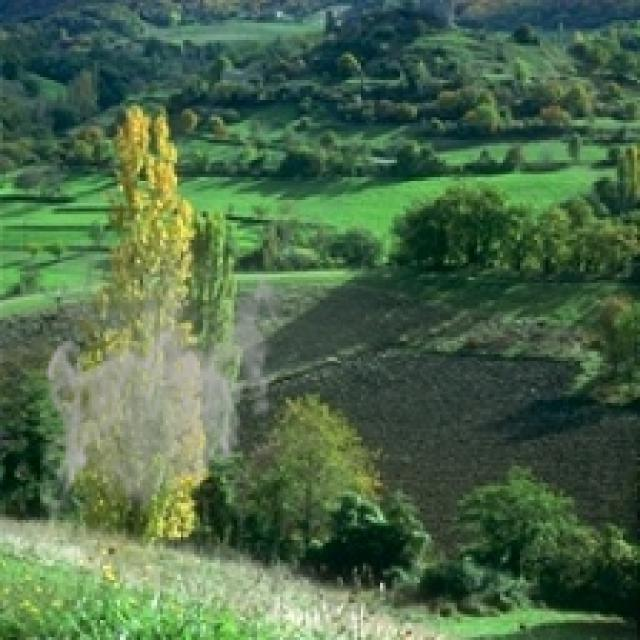smoke: (40, 237, 286, 520)
